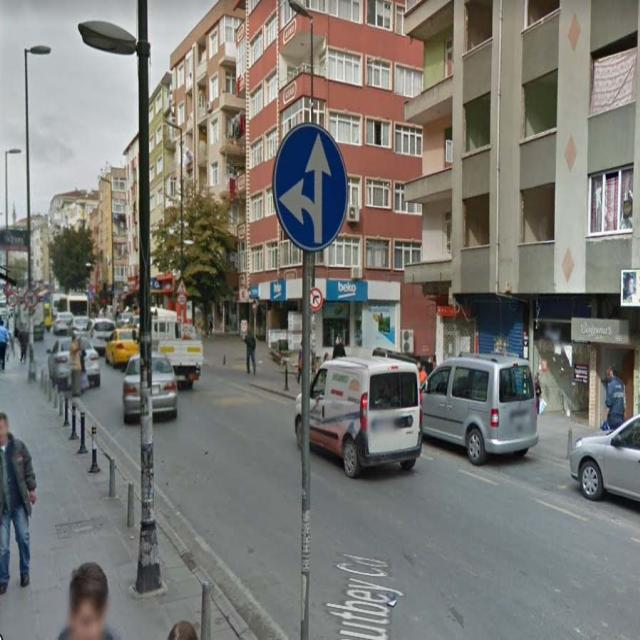ilerisol: (274, 122, 347, 252)
sagadonulmez: (307, 289, 322, 310)
